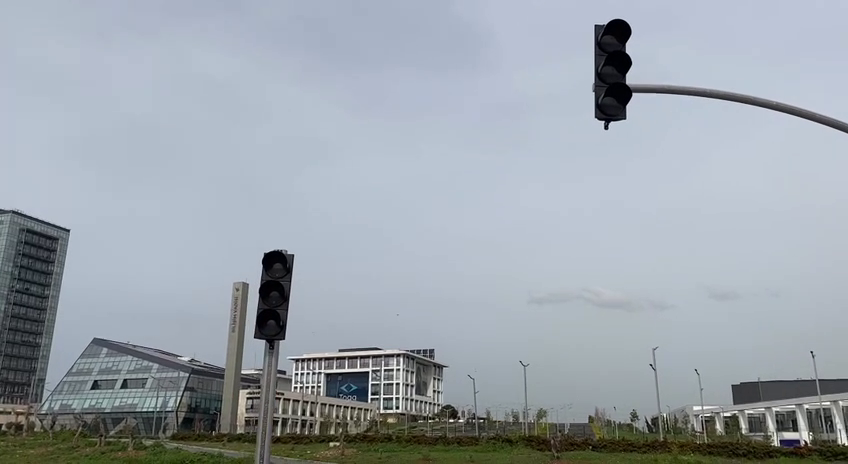trafficLight: (588, 17, 637, 131), (252, 246, 298, 345)
